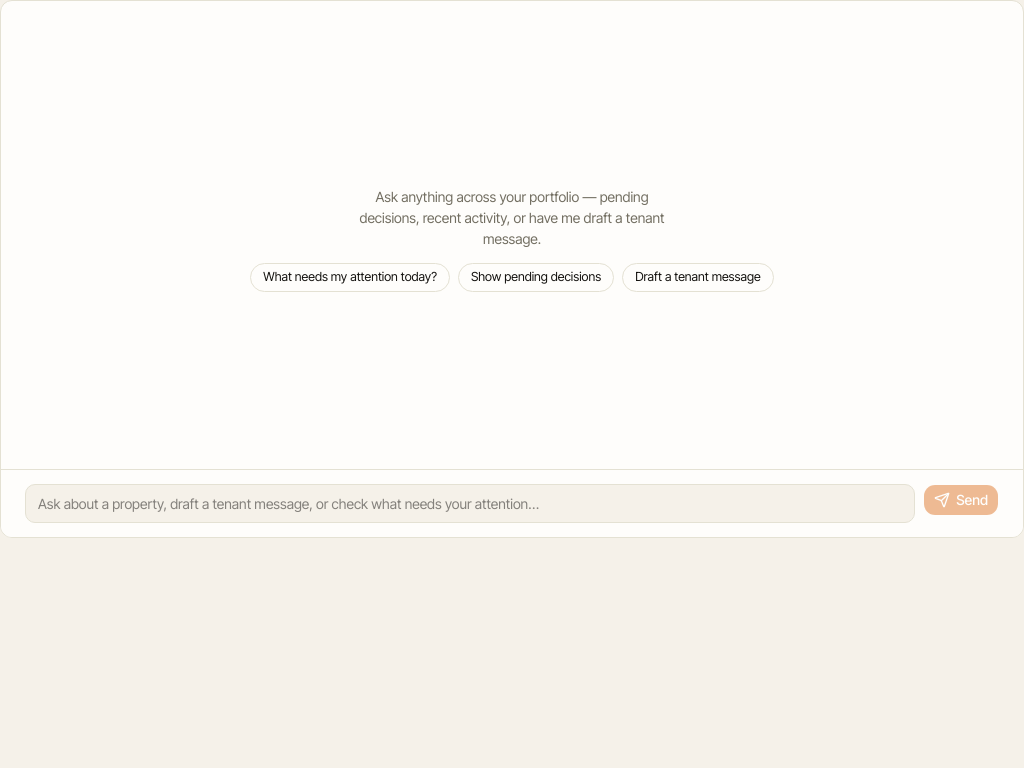
ChatPanel — SSE reducer › surfaces a transport error banner when the SSE response is non-2xx
Replace the text in the text box with test id "chat-panel-input" with "fail please" at [470, 503], box [25,484,915,523]
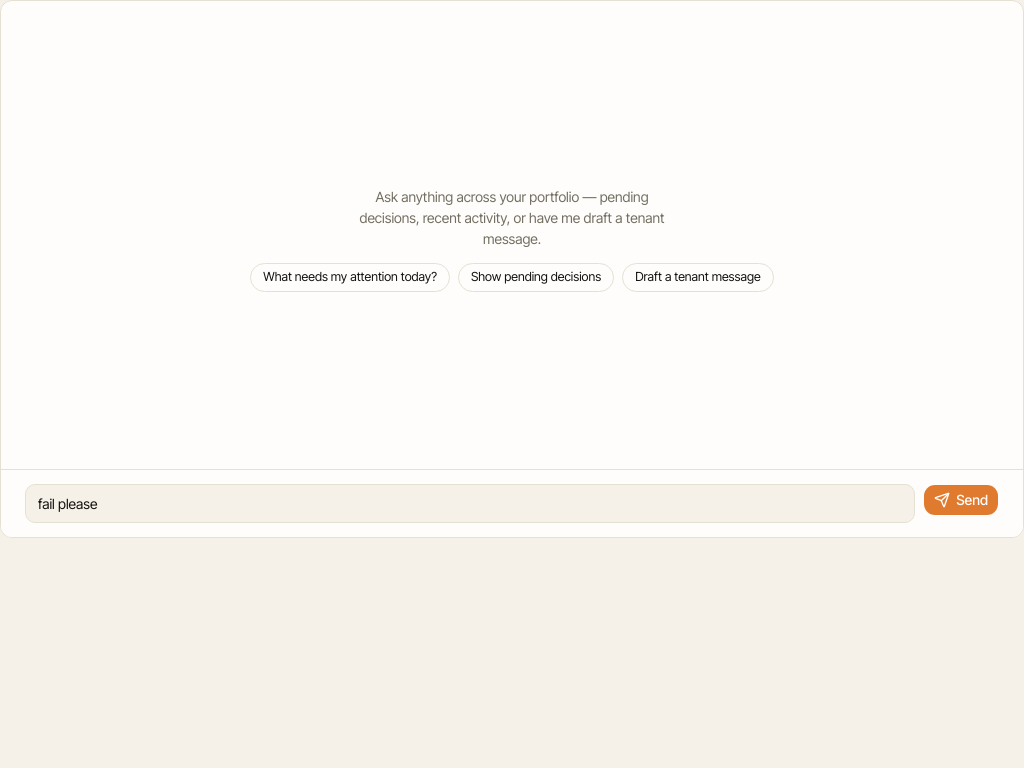
Submit the form with test id "chat-panel-form", box [1,469,1023,537]
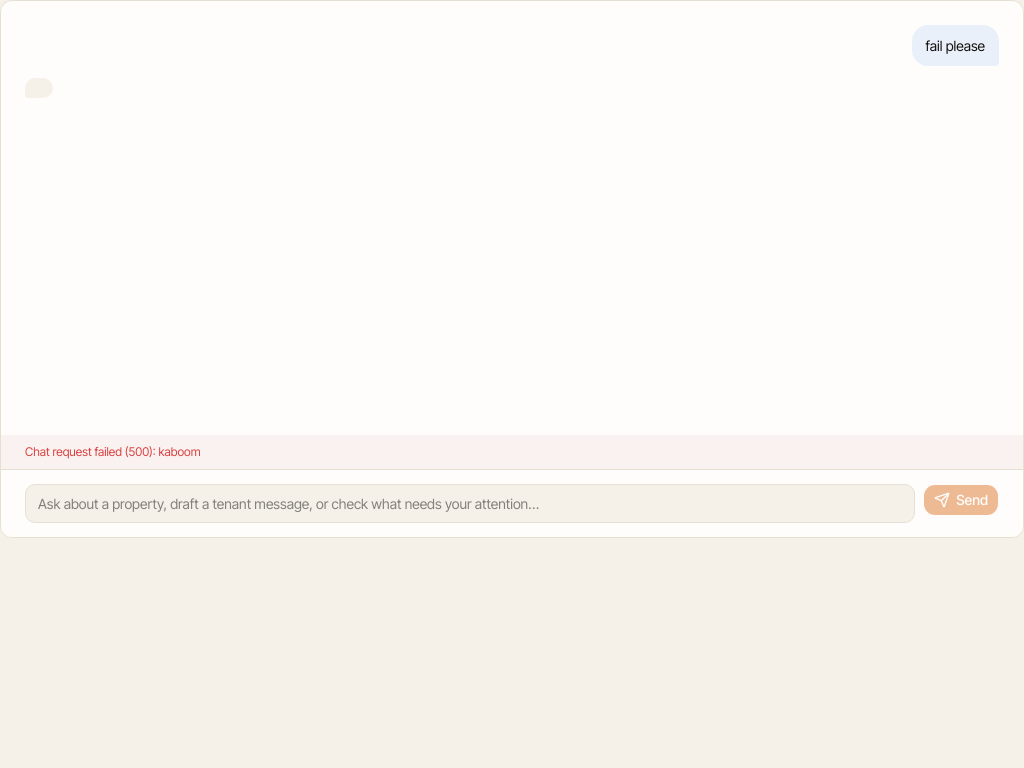
Expected: the message with test id "chat-panel-transport-error" shows "500", [25,444,200,459]
